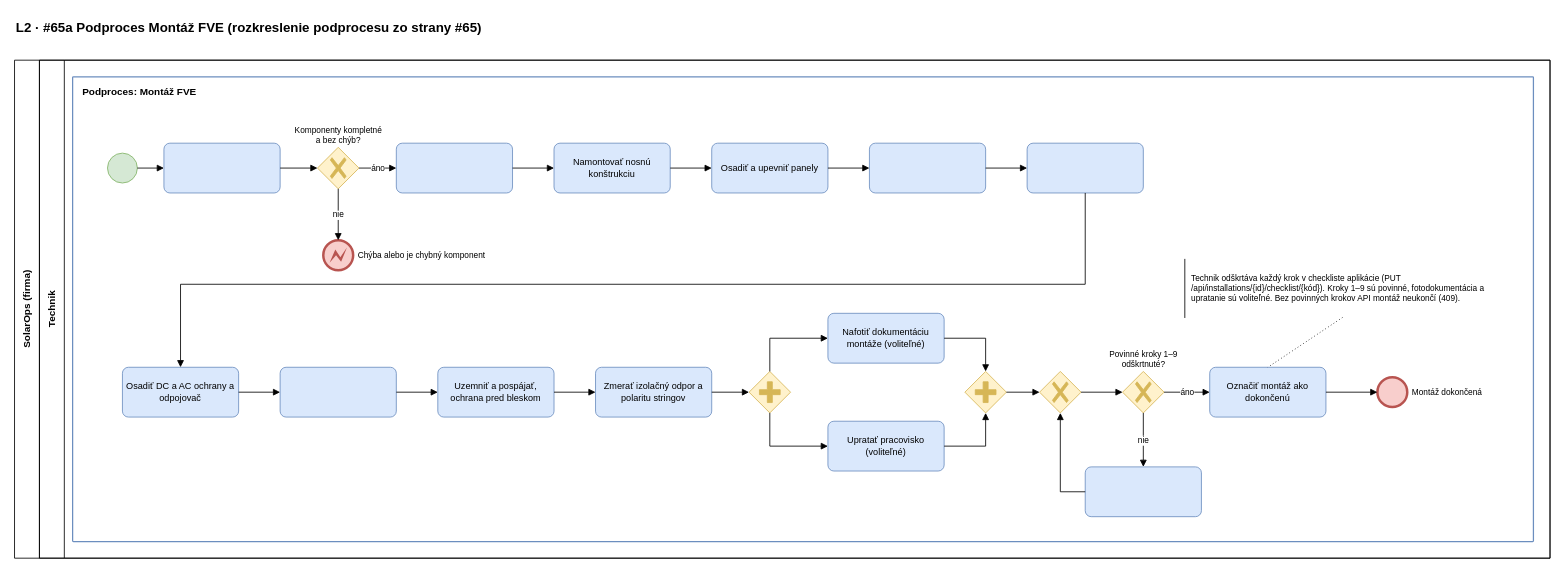
This 1565x573 diagram has some shape labels left out. The shapes that lost their labels are listed below. From the top down, each one's box as (x1, y1, x2, y2) in pixels, then its label:
(107, 152, 137, 183): Montáž začatá
(163, 142, 280, 193): Skontrolovať dodané komponenty na mieste
(395, 142, 513, 193): Zabezpečiť pracovisko a BOZP
(869, 142, 986, 193): Zapojiť stringy a DC kabeláž
(1026, 142, 1143, 193): Namontovať a zapojiť striedač
(279, 366, 396, 417): Pripojiť AC stranu do rozvádzača
(1084, 466, 1201, 517): Dokončiť a odškrtnúť chýbajúce kroky
